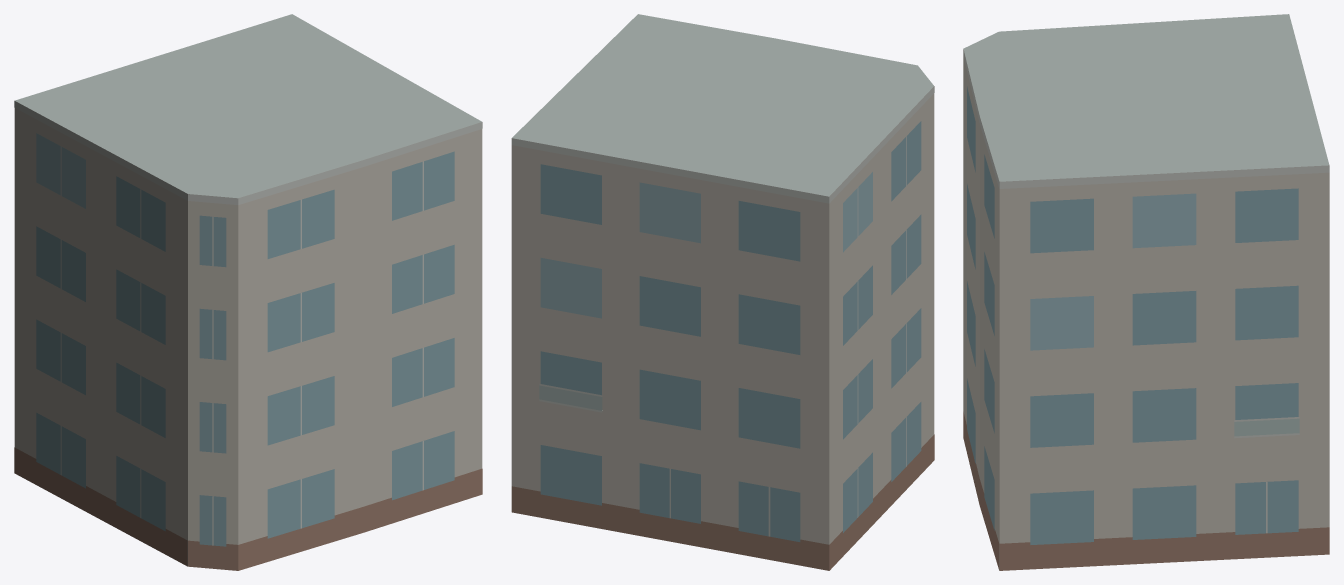
The model's file is survey-upis-32631398.glb.
3 views of the same model, side by side, from view 1: azimuth 30°, elevation 25°; view 2: azimuth 150°, elevation 25°; view 3: azimuth 270°, elevation 25° (orthographic). The views are drawn at different scales.
Visible parts, largest first — view 1: survey-upis-32631398.tmp; view 2: survey-upis-32631398.tmp; view 3: survey-upis-32631398.tmp.
Part boxes in pixels (x1,y1,x2,y2): survey-upis-32631398.tmp: [14, 14, 482, 570]; survey-upis-32631398.tmp: [511, 14, 934, 570]; survey-upis-32631398.tmp: [963, 14, 1329, 570].
Bounding box in the file's own units: 12.12 × 13.1 × 11.18.
